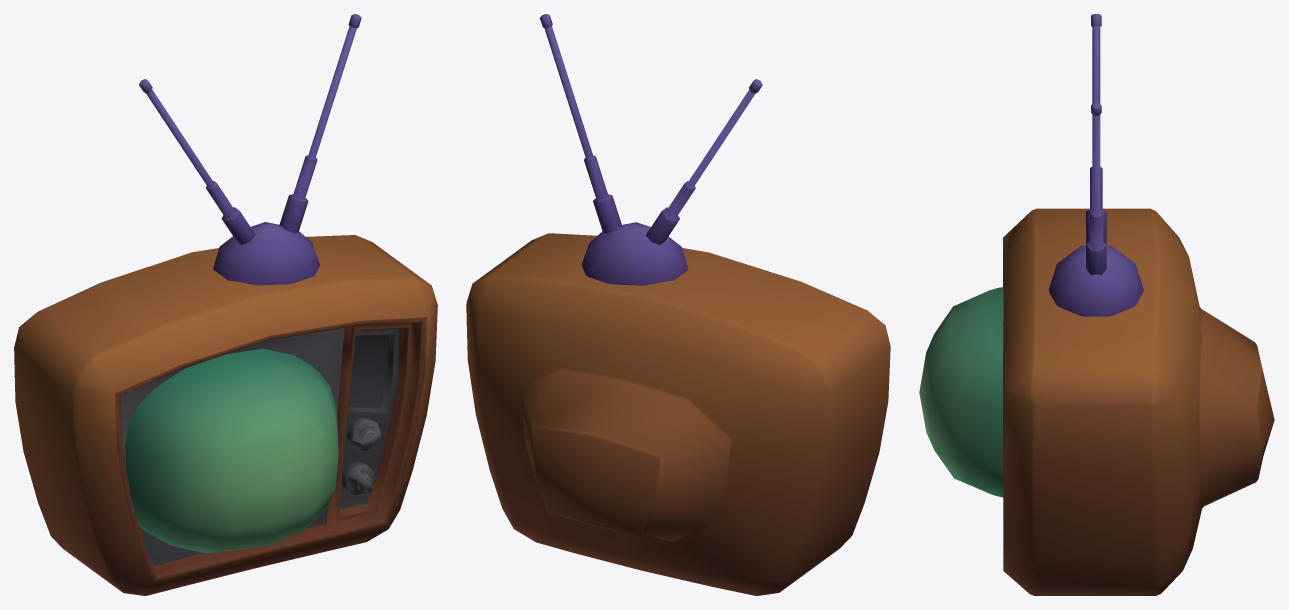
3 views of the same model, side by side, from view 1: azimuth 30°, elevation 25°; view 2: azimuth 150°, elevation 25°; view 3: azimuth 270°, elevation 25° (orthographic).
Visible parts, largest first — view 1: TV; view 2: TV; view 3: TV.
Boxes of the visible parts, box(x1,y1,x2,y2) form: TV: box(14, 14, 437, 595); TV: box(466, 14, 890, 595); TV: box(919, 14, 1274, 595).
Bounding box in the file's own units: 307 × 402 × 258.
1 material, 1 textured.
